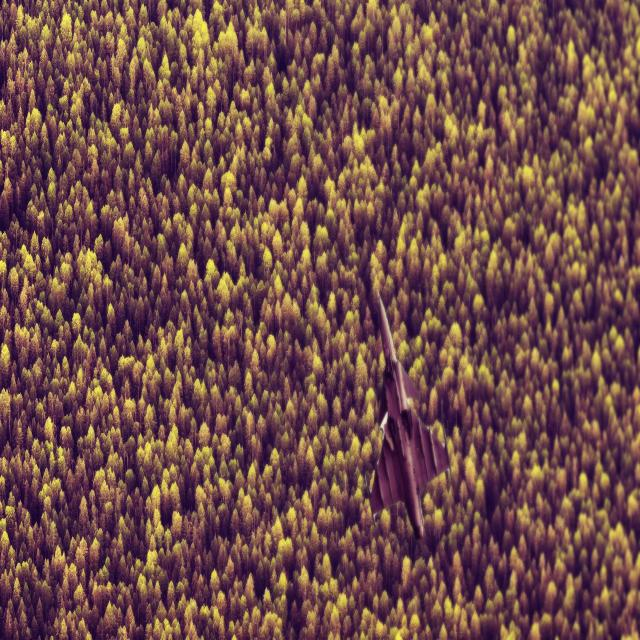airplane: (365, 290, 452, 540)
